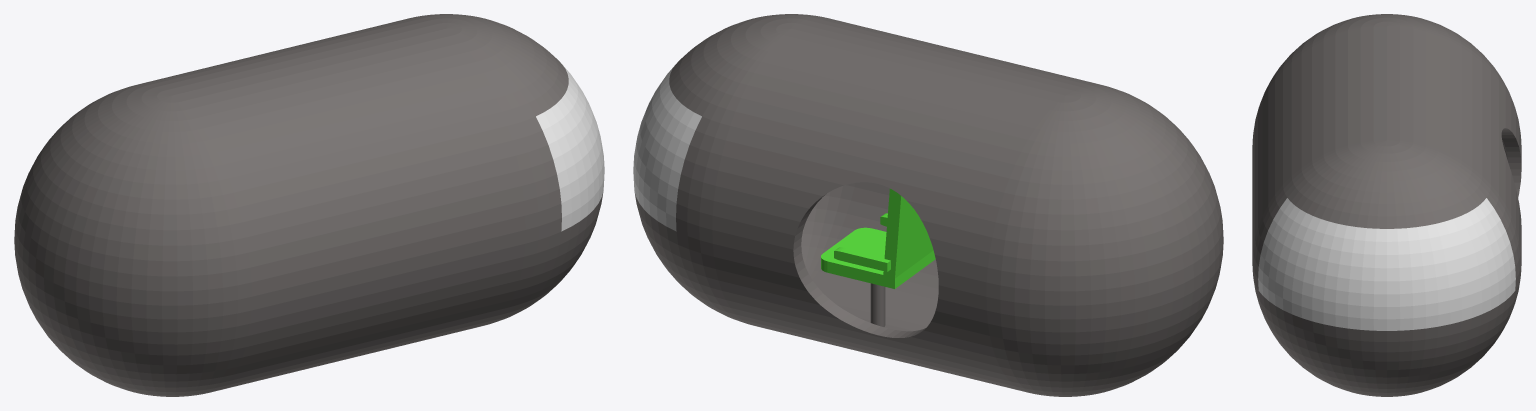
The model's file is Hyperloop.fbx.
The picture shows the model from 3 angles, left to right: view 1: azimuth 30°, elevation 25°; view 2: azimuth 150°, elevation 25°; view 3: azimuth 270°, elevation 25°; orthographic projection. The views are drawn at different scales.
Visible parts, largest first — view 1: Hyperloop; view 2: Hyperloop, Hyperloop_Sitz; view 3: Hyperloop.
Boxes of the visible parts, box(x1,y1,x2,y2) form: Hyperloop: box(14, 14, 604, 396); Hyperloop: box(633, 14, 1223, 396); Hyperloop_Sitz: box(821, 188, 935, 326); Hyperloop: box(1252, 14, 1521, 396).
Size of the model in its own units: 662 by 331 by 331.
